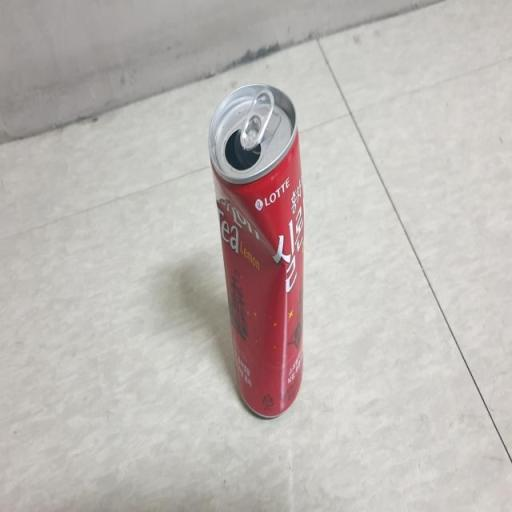metal: (206, 66, 336, 421)
